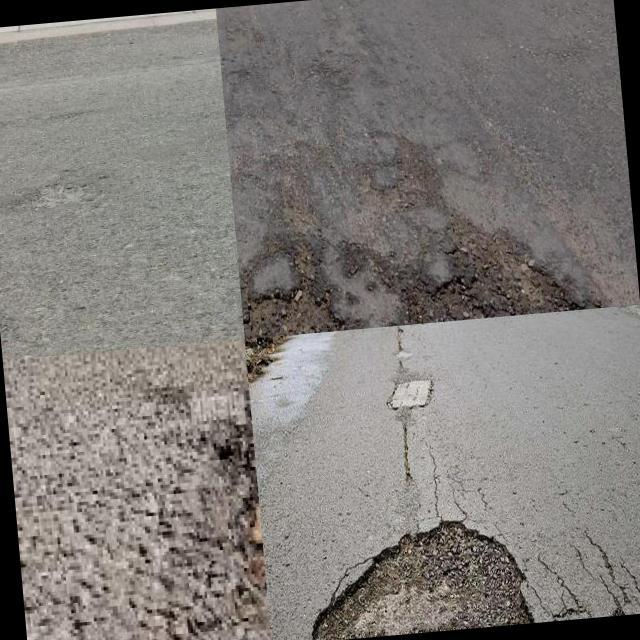Pothole: (310, 522, 534, 640), (404, 209, 589, 324), (242, 243, 349, 339), (0, 184, 92, 209)
